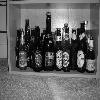beer: (43, 12, 57, 71)
